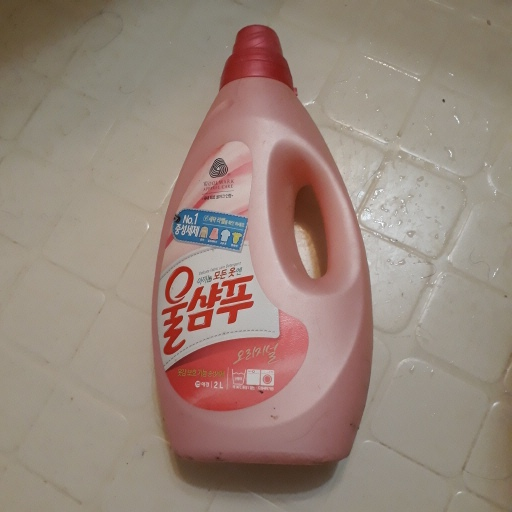Plastic_1: (157, 22, 377, 479)
